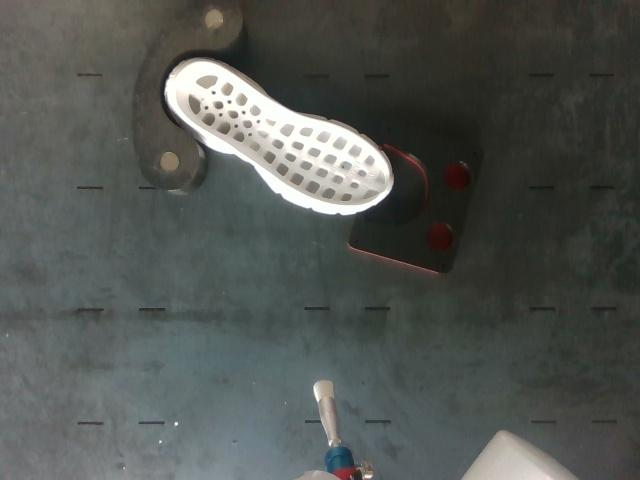shoes: (175, 62, 390, 205)
